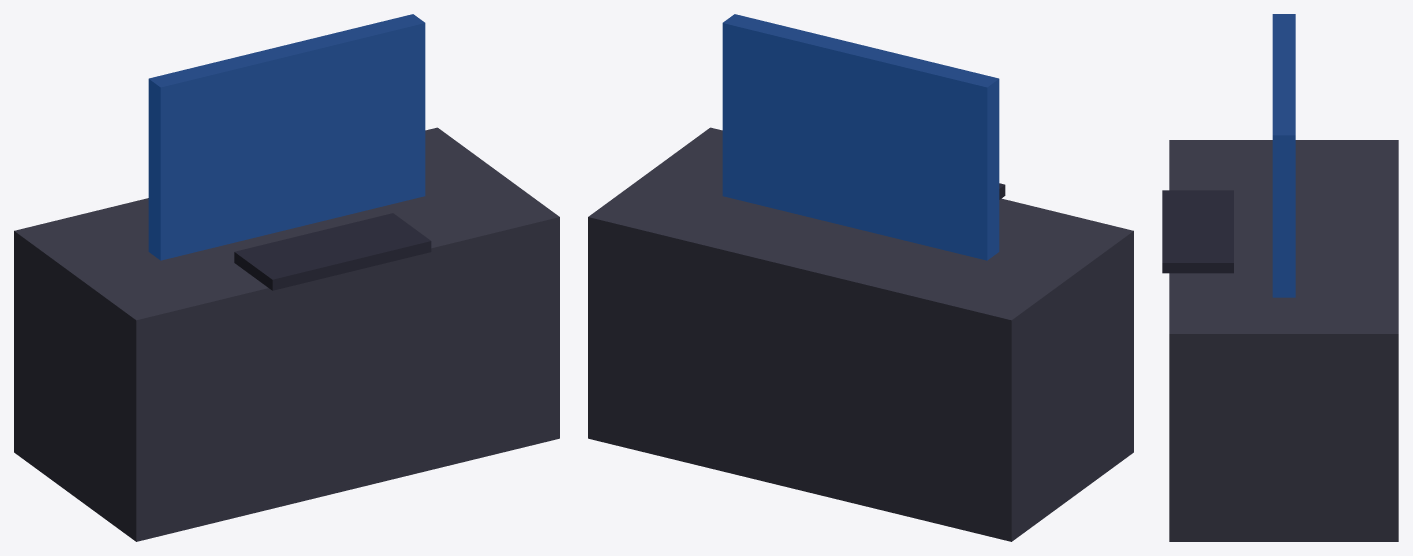
Rendered from terminal.glb.
The picture shows the model from 3 angles, left to right: view 1: azimuth 30°, elevation 25°; view 2: azimuth 150°, elevation 25°; view 3: azimuth 270°, elevation 25°; orthographic projection. The views are drawn at different scales.
Bounding box in the file's own units: 1.6 × 1.42 × 0.825.
